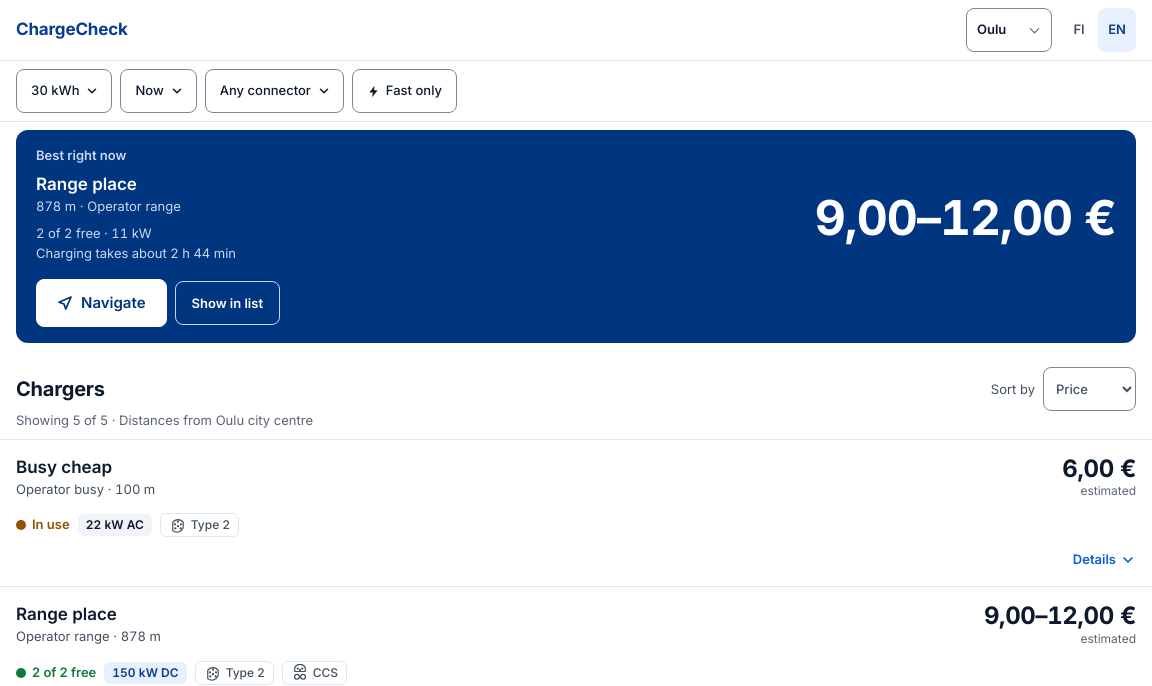
best right now › opens the card from "Show in list"
Expected: the element "Best right now" shows "Range place", [36, 174, 137, 194]
Click the button named "Show in list: Range place" at (227, 303), box [174, 281, 280, 325]
(page scrolled)
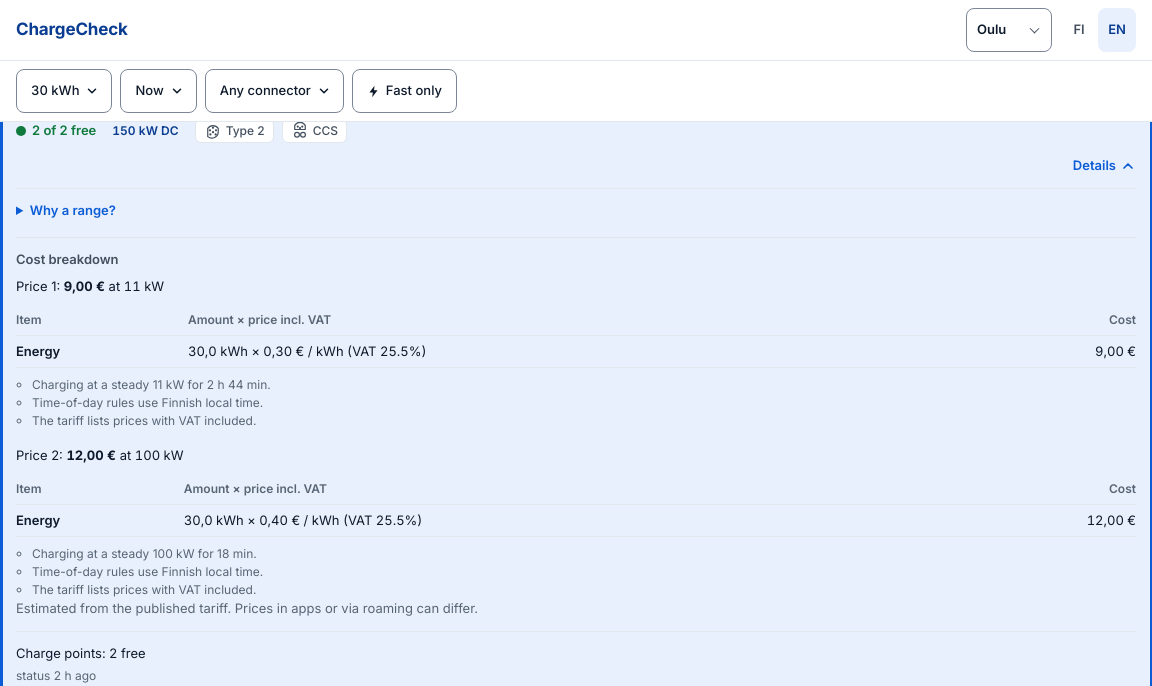
Now the button named "Details: Range place" is expanded, box [1065, 144, 1144, 188]
